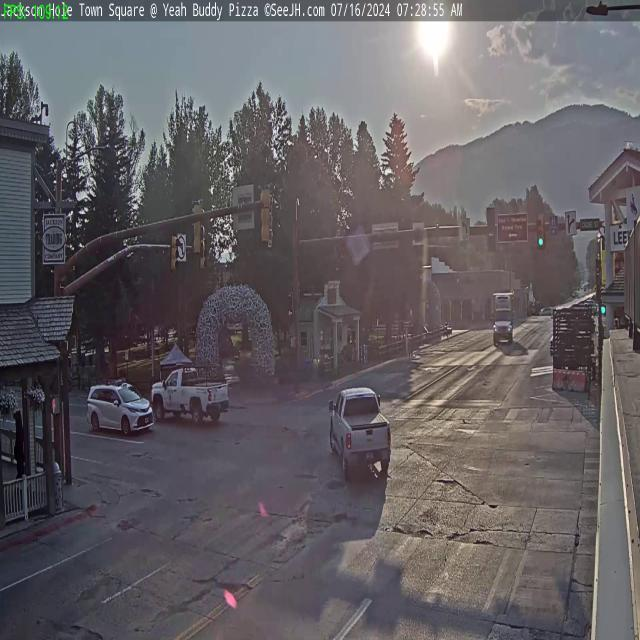pickup: (326, 378, 394, 481), (155, 364, 229, 428)
suv: (88, 377, 154, 438)
traffic light: (190, 200, 204, 256), (260, 184, 272, 244), (487, 206, 498, 251), (536, 215, 546, 248), (171, 233, 178, 271)
truck: (493, 286, 512, 349)
